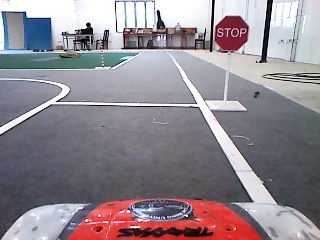stop: (214, 15, 249, 51)
